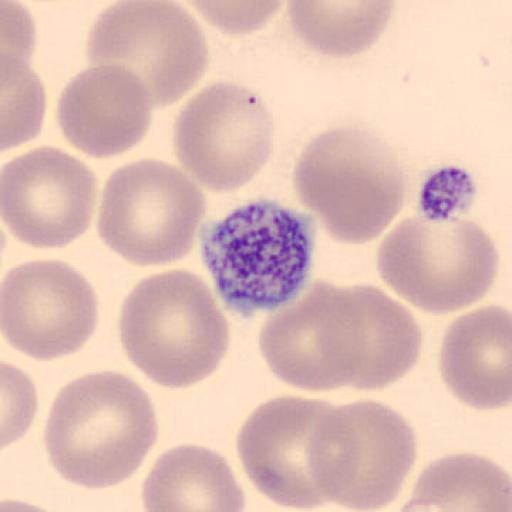Platelet: (198, 195, 320, 318), (413, 162, 480, 224)
RBC: (42, 368, 160, 492), (292, 125, 411, 245), (116, 268, 232, 391), (83, 0, 210, 110), (234, 393, 348, 511), (376, 213, 500, 316), (308, 397, 419, 511), (96, 157, 208, 268), (172, 78, 276, 194), (257, 285, 362, 393), (326, 281, 424, 393), (2, 258, 100, 364), (3, 144, 98, 250), (55, 62, 153, 159), (438, 303, 512, 412), (140, 441, 247, 511), (395, 450, 511, 512), (286, 0, 398, 59), (1, 10, 46, 154), (0, 0, 38, 120), (2, 54, 48, 152), (181, 0, 288, 37), (2, 359, 38, 451), (0, 0, 38, 82), (2, 496, 72, 512)
